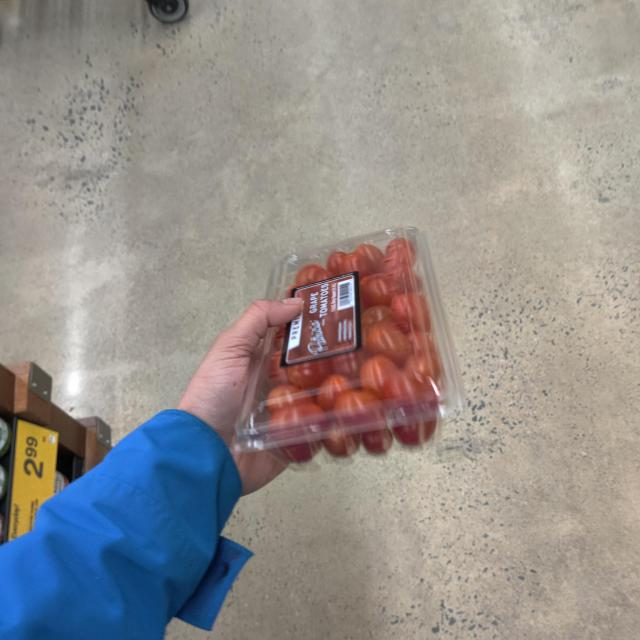Tomatoes: (229, 218, 476, 475)
